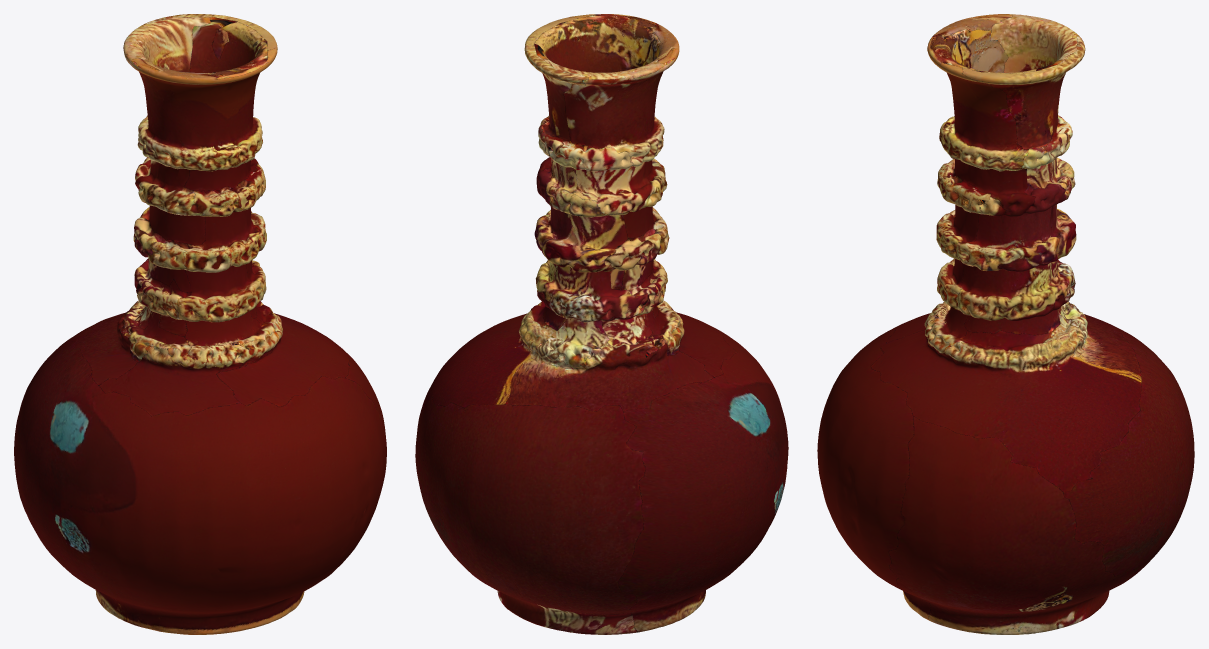
3 views of the same model, side by side, from view 1: azimuth 30°, elevation 25°; view 2: azimuth 150°, elevation 25°; view 3: azimuth 270°, elevation 25° (orthographic).
Visible parts, largest first — view 1: texture_v128_amrb_13w_cfg2_hdr; view 2: texture_v128_amrb_13w_cfg2_hdr; view 3: texture_v128_amrb_13w_cfg2_hdr.
Boxes of the visible parts, x1,y1,x2,y2 form: texture_v128_amrb_13w_cfg2_hdr: [14, 14, 386, 634]; texture_v128_amrb_13w_cfg2_hdr: [415, 14, 788, 634]; texture_v128_amrb_13w_cfg2_hdr: [817, 14, 1194, 634].
Size of the model in its own units: 1.24 by 2 by 1.25.
1 material, 1 textured.
